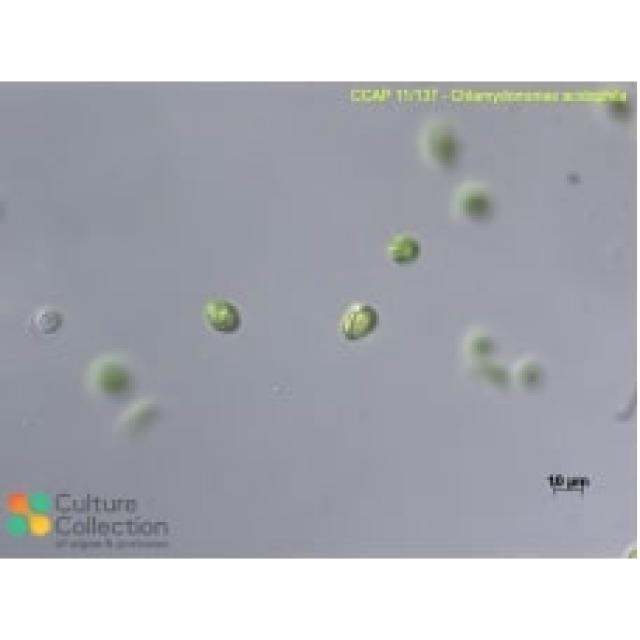Green Algae: (331, 300, 379, 340), (202, 289, 244, 334), (382, 227, 424, 267)
